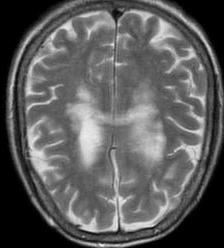Normal_Brain: (1, 1, 224, 248)
